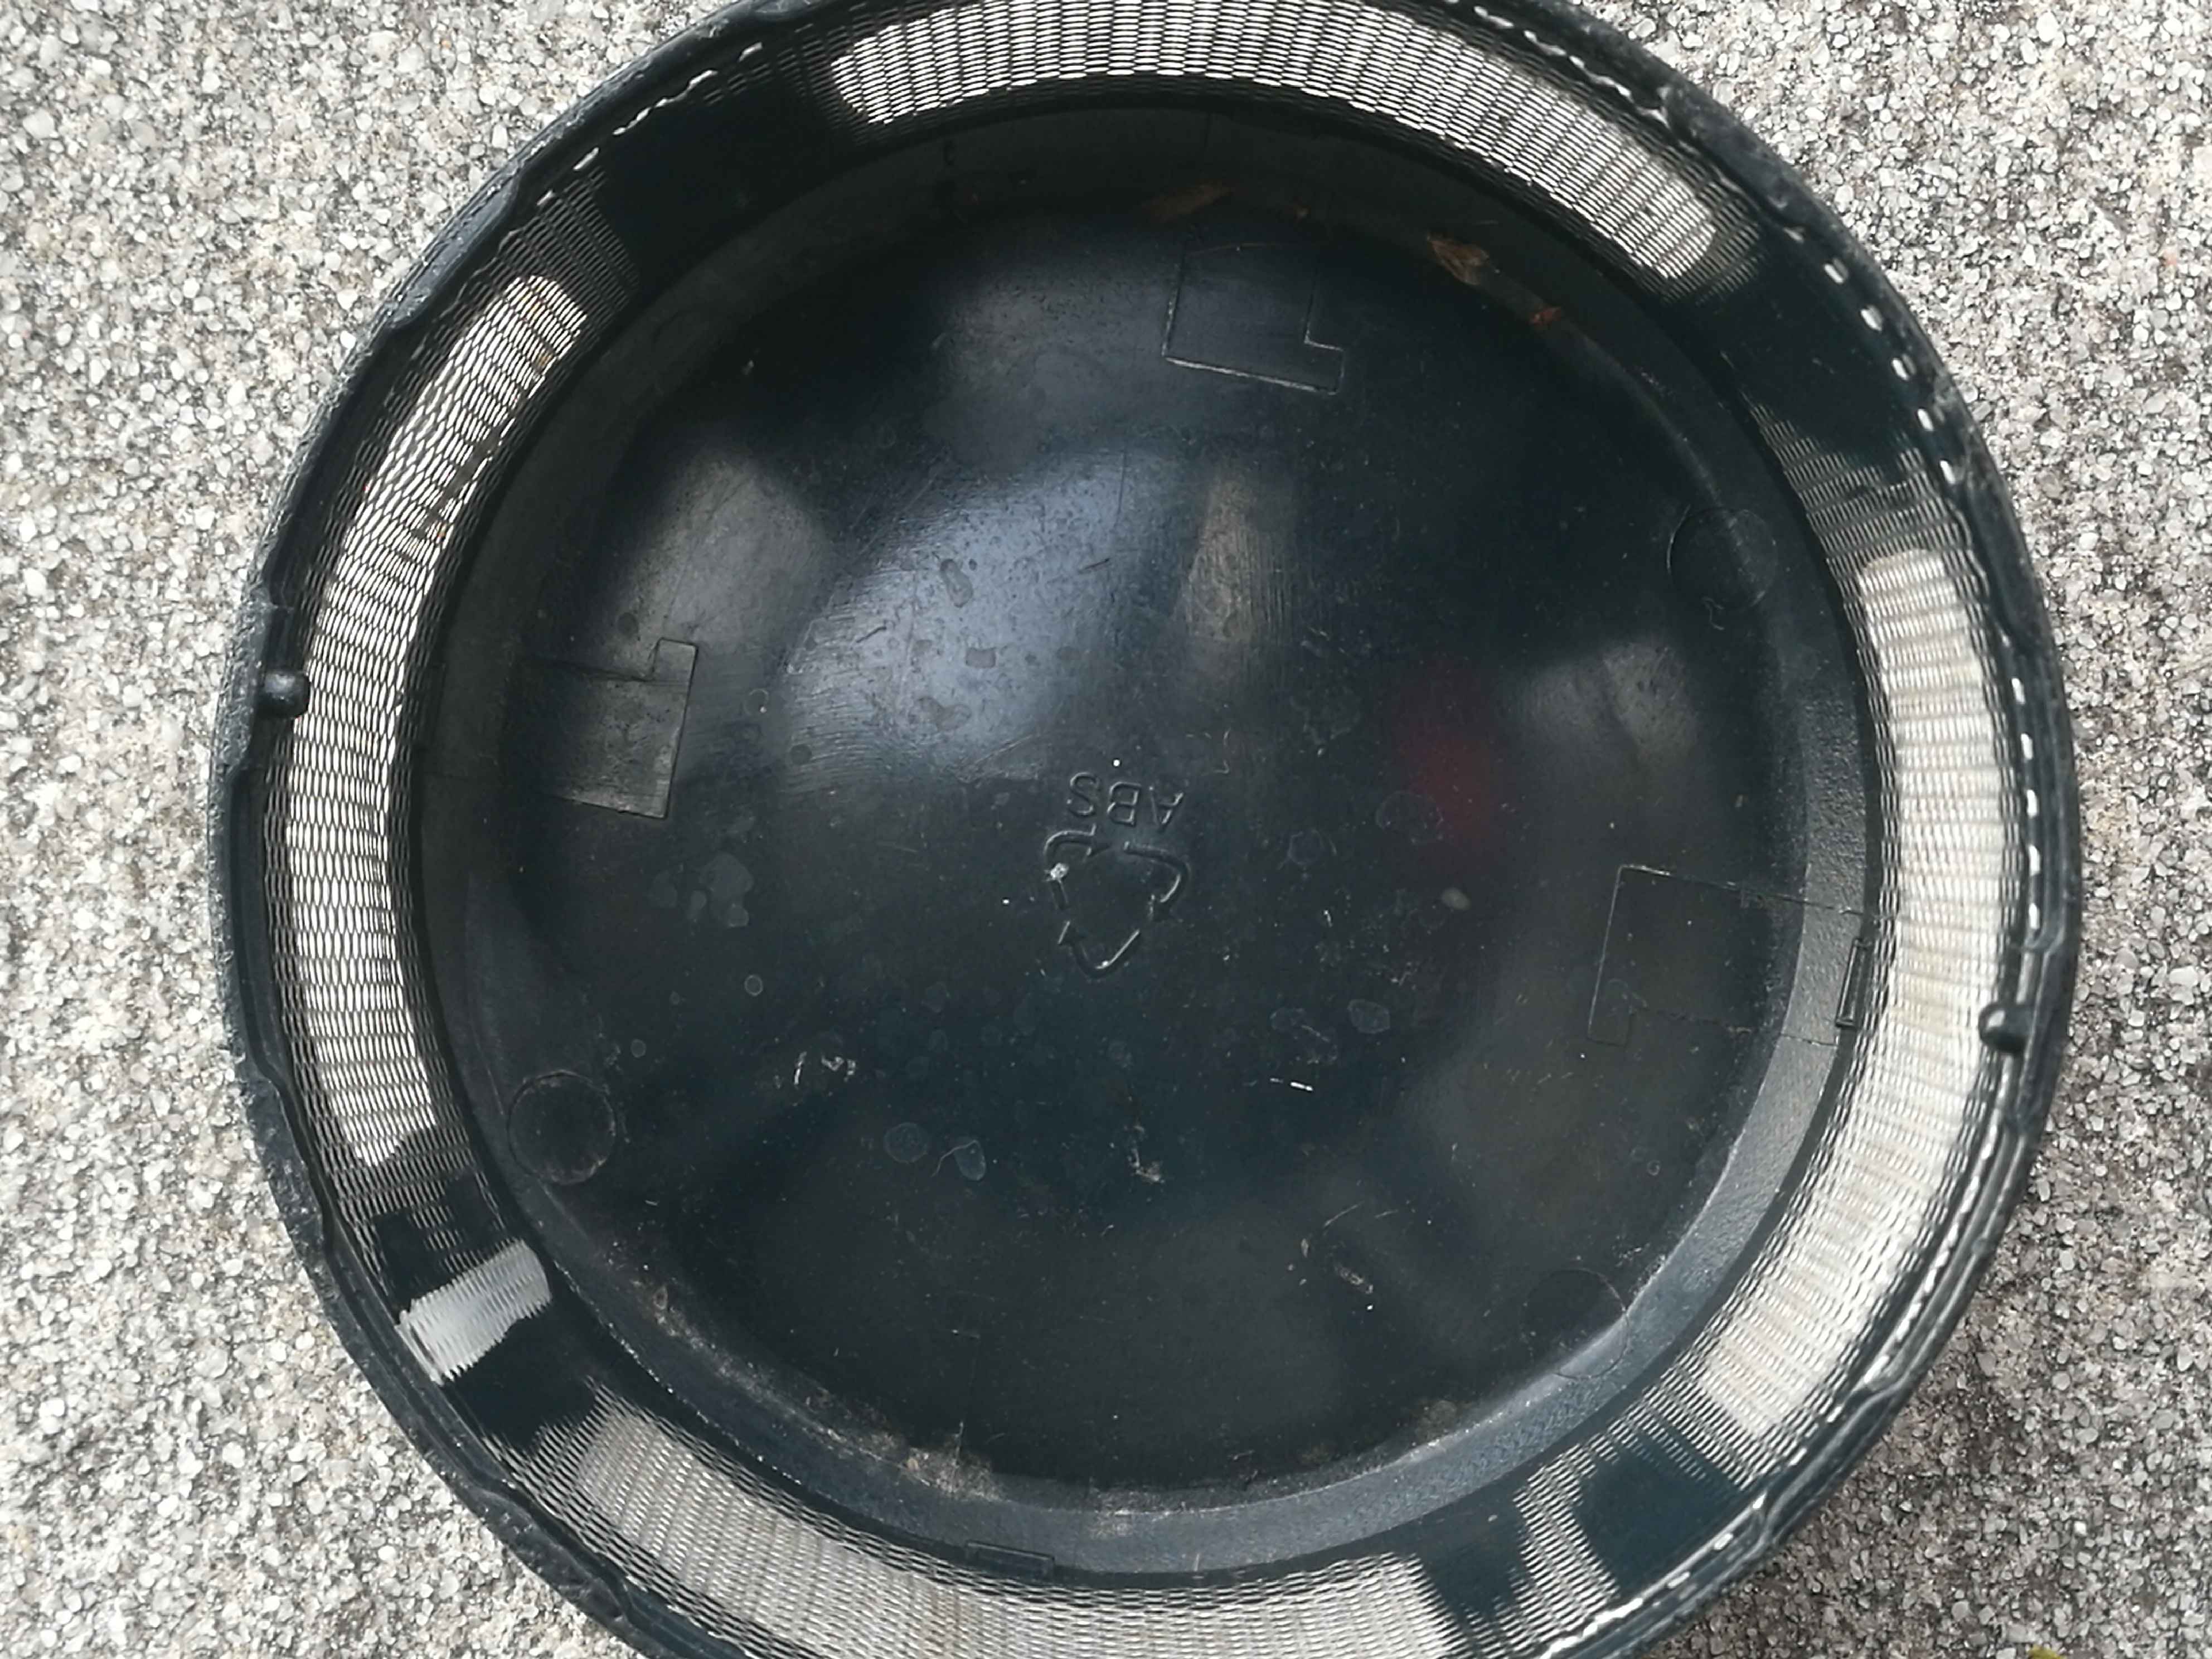mosquito: (1151, 186, 1233, 213)
moth: (1420, 230, 1491, 284)
